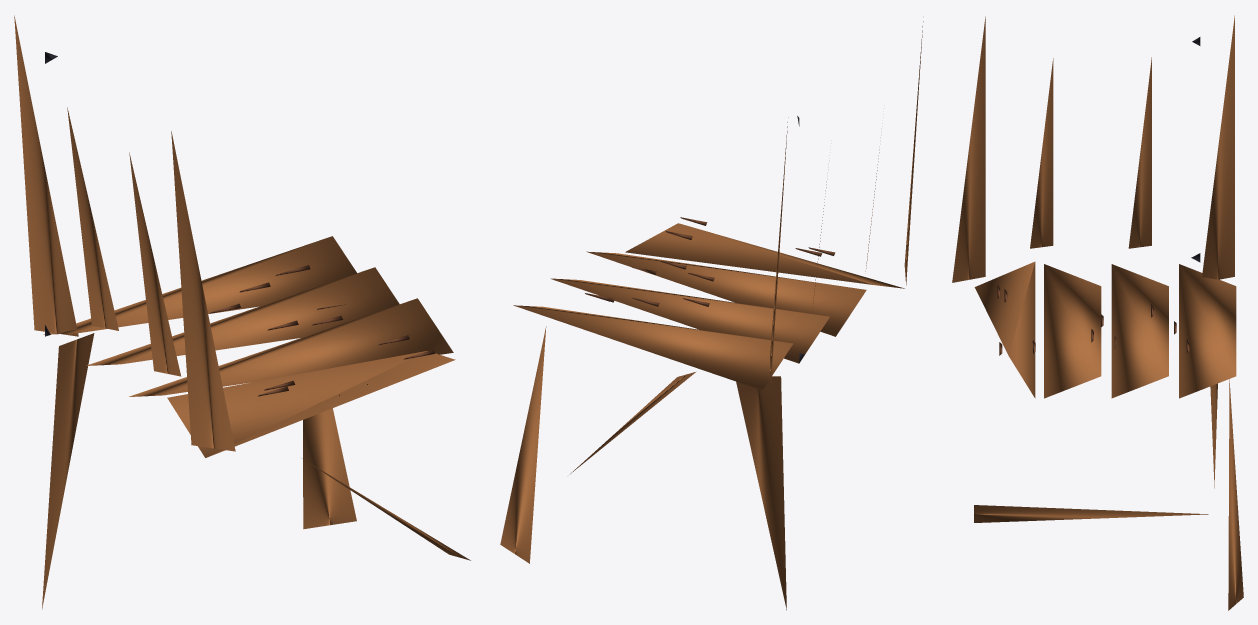
3 renders of one model, left to right at view 1: azimuth 30°, elevation 25°; view 2: azimuth 150°, elevation 25°; view 3: azimuth 270°, elevation 25°, orthographic. The views are drawn at different scales.
Parts seen in each view (by area): view 1: root_pal_woodWarm, root_pal_leatherShadow; view 2: root_pal_woodWarm, root_pal_leatherShadow; view 3: root_pal_woodWarm, root_pal_leatherShadow.
Part boxes in pixels (x1=…): root_pal_woodWarm: x1=14, y1=15, x2=470, y2=609; root_pal_leatherShadow: x1=210, y1=265, x2=434, y2=396; root_pal_woodWarm: x1=500, y1=21, x2=923, y2=610; root_pal_leatherShadow: x1=585, y1=217, x2=835, y2=306; root_pal_woodWarm: x1=952, y1=15, x2=1243, y2=610; root_pal_leatherShadow: x1=997, y1=285, x2=1189, y2=355.
Size of the model in its own units: 0.5982 by 0.998 by 0.5621.
